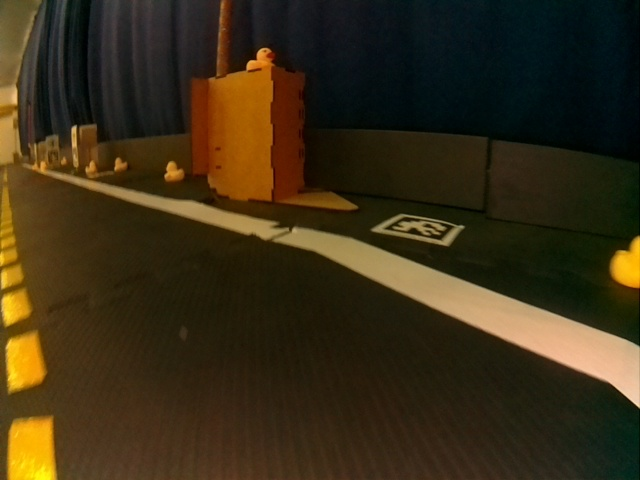Duckie: (610, 237, 636, 286), (248, 48, 274, 69), (163, 160, 185, 182), (113, 157, 128, 171), (84, 163, 97, 174), (39, 161, 47, 171)
QR code: (375, 216, 462, 244)
